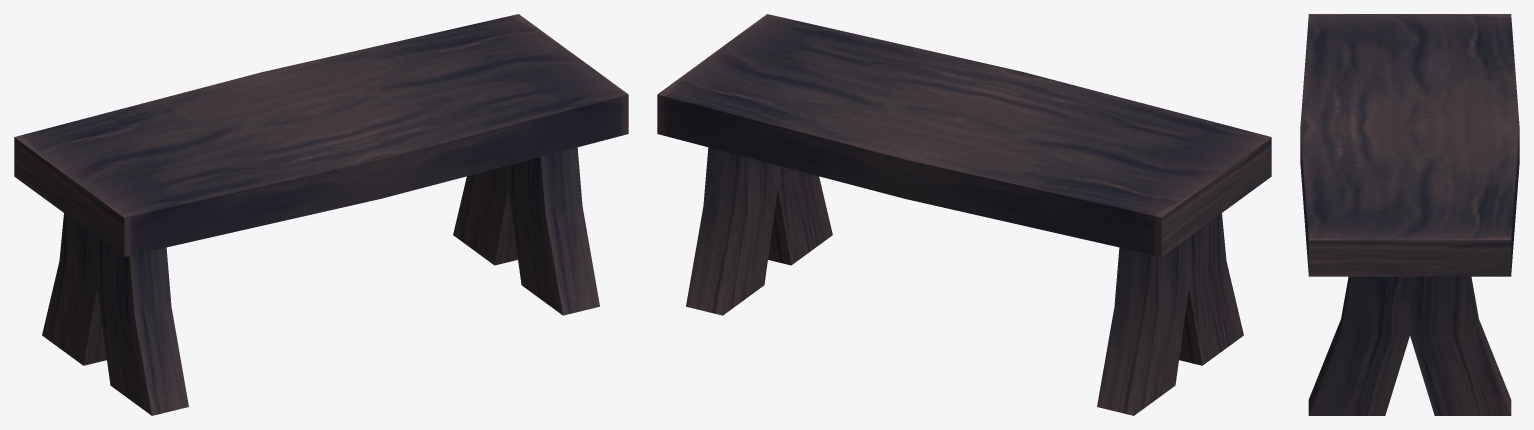
Rendered from Bench_1x1.fbx.
The picture shows the model from 3 angles, left to right: view 1: azimuth 30°, elevation 25°; view 2: azimuth 150°, elevation 25°; view 3: azimuth 270°, elevation 25°; orthographic projection. The views are drawn at different scales.
Parts seen in each view (by area): view 1: Bench_1x1; view 2: Bench_1x1; view 3: Bench_1x1.
Boxes of the visible parts, box(x1,y1,x2,y2) form: Bench_1x1: box(14, 14, 628, 415); Bench_1x1: box(657, 14, 1271, 415); Bench_1x1: box(1300, 14, 1519, 415).
Size of the model in its own units: 0.3133 by 0.1217 by 0.1282.
